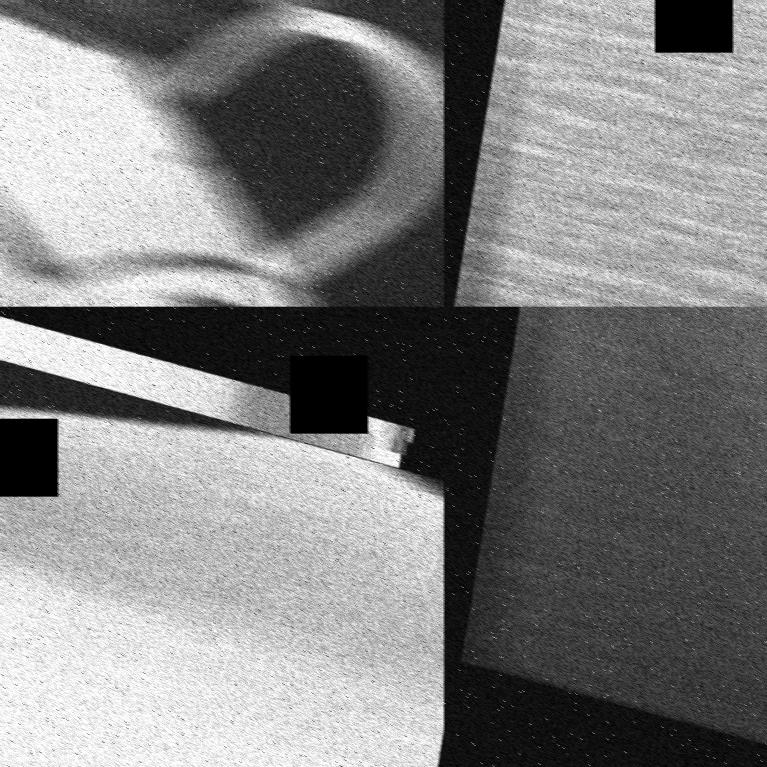Airbag: (0, 413, 444, 767), (444, 306, 767, 767), (0, 0, 444, 306), (444, 0, 767, 306)
